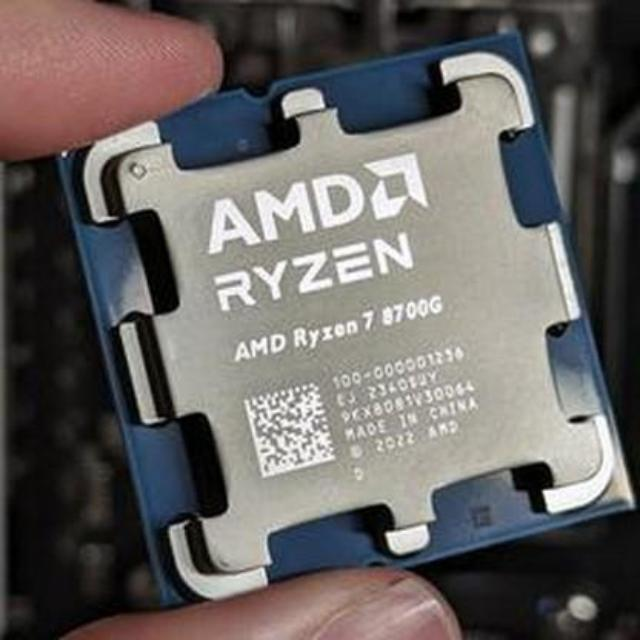CPU: (82, 68, 634, 560)
